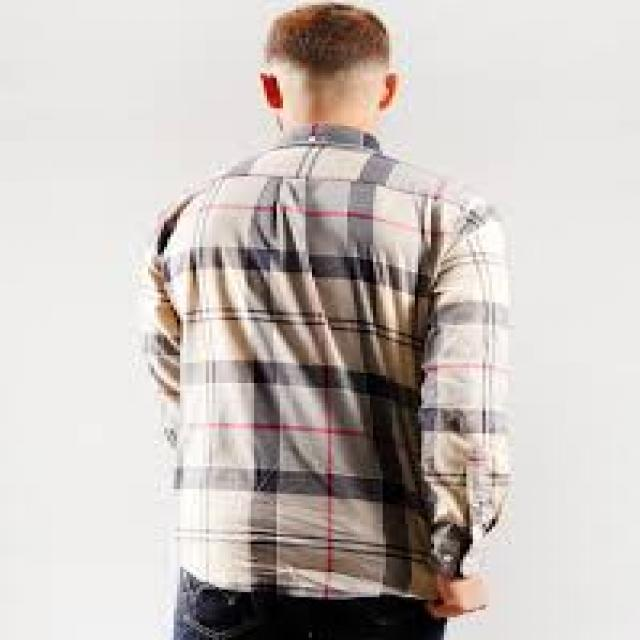plaid: (115, 132, 516, 593)
